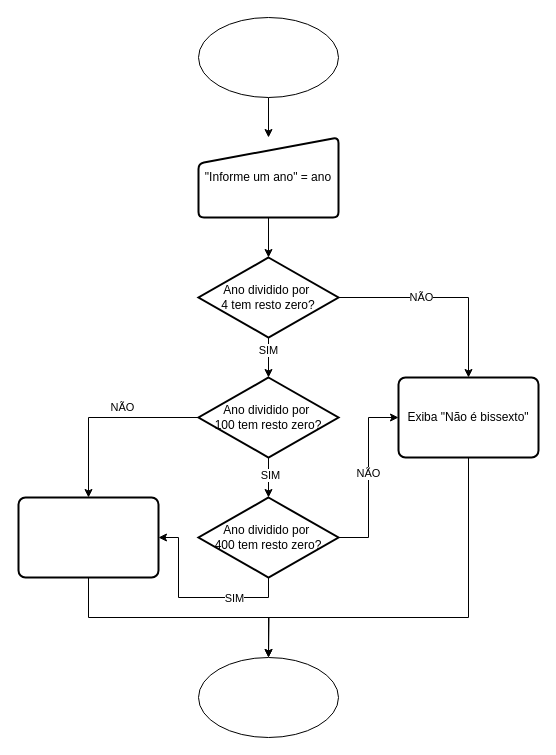
Some shapes in this 556 by 755 pixel diagram are drawn without their labels. Here are the shapes that lost their labels. From the top down, the centre of each, then its label:
the point at 268,57: INÍCIO
the point at 88,537: Exiba "É bissexto"
the point at 268,697: TÉRMINO
